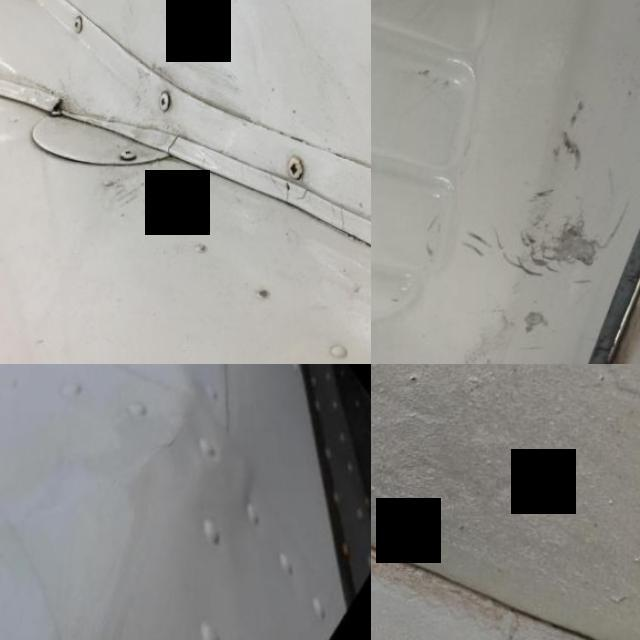Crack: (467, 112, 620, 292), (266, 153, 370, 257), (168, 130, 256, 194)
Dent: (70, 403, 196, 504)
